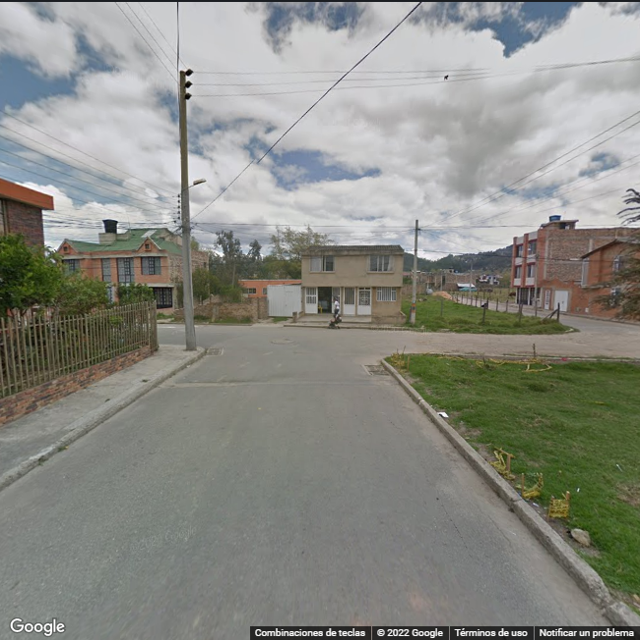D00: (524, 568, 579, 624), (475, 500, 522, 559), (433, 495, 473, 550)
